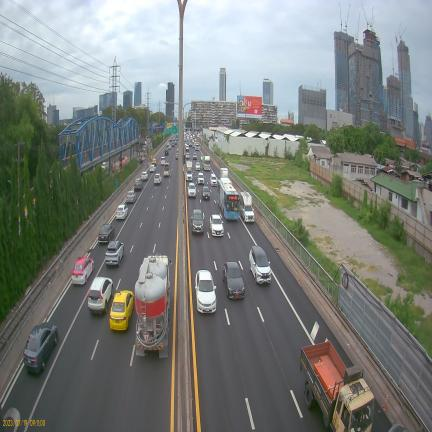bus: (217, 178, 240, 220)
car: (23, 323, 58, 373), (88, 276, 113, 313), (195, 270, 216, 313), (249, 246, 271, 284), (223, 262, 245, 298), (105, 240, 124, 265), (191, 209, 204, 234), (98, 224, 115, 243), (210, 214, 224, 236), (388, 423, 408, 432), (116, 205, 128, 219), (187, 182, 196, 198), (127, 189, 137, 203), (134, 178, 143, 191), (202, 187, 210, 200), (197, 172, 205, 184), (210, 173, 217, 186), (154, 173, 162, 184), (141, 171, 148, 181), (101, 162, 108, 171), (149, 164, 156, 172), (152, 157, 157, 167), (160, 156, 165, 166), (195, 162, 200, 171), (185, 143, 189, 151), (186, 152, 190, 159), (165, 149, 169, 156), (175, 152, 179, 159), (193, 153, 197, 160), (168, 144, 171, 150), (201, 154, 203, 161)
taxi: (110, 290, 134, 330), (71, 257, 94, 284)
truck: (300, 341, 374, 432), (135, 254, 171, 357), (240, 192, 255, 222), (186, 161, 193, 181), (203, 155, 210, 171), (163, 162, 170, 176), (220, 168, 228, 178)
